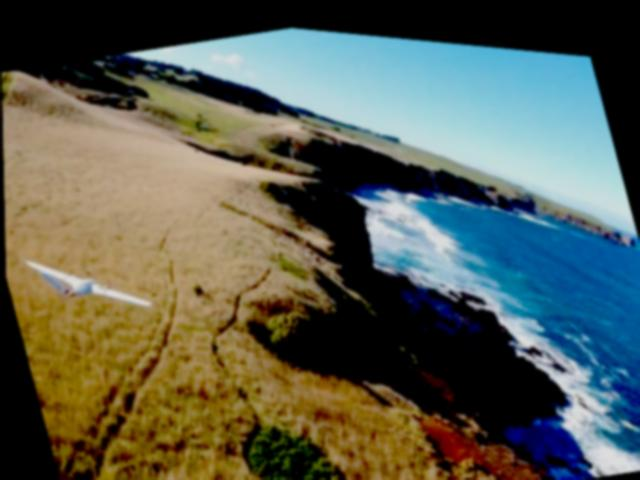uav: (24, 232, 151, 333)
